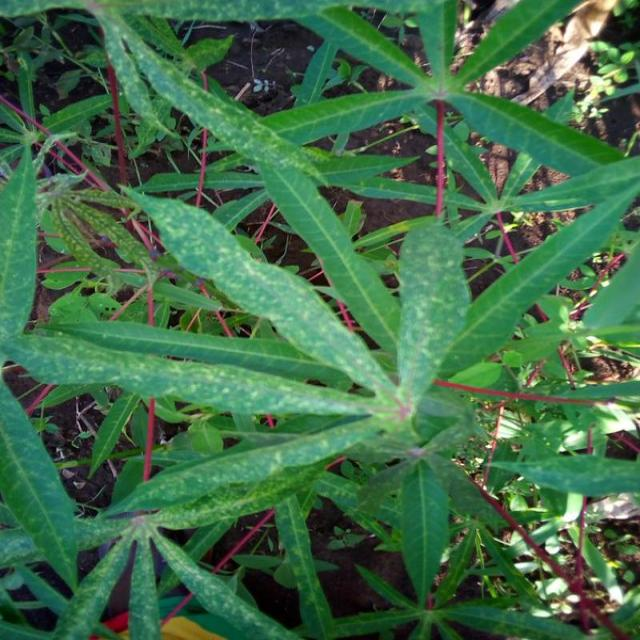cassava leaf: (0, 0, 639, 639), (116, 179, 398, 399)
